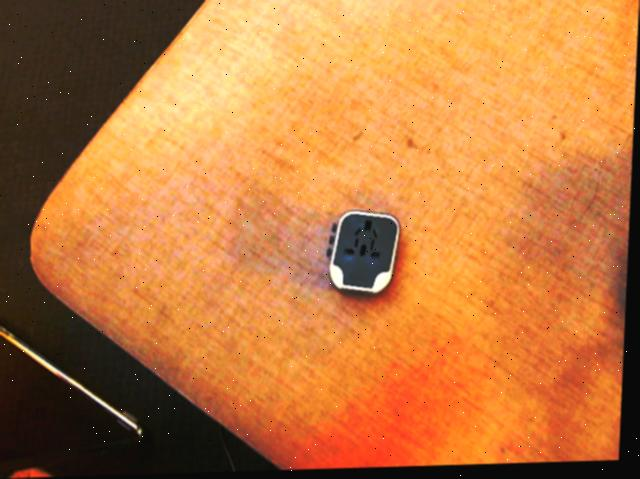adapter: (327, 211, 403, 298)
